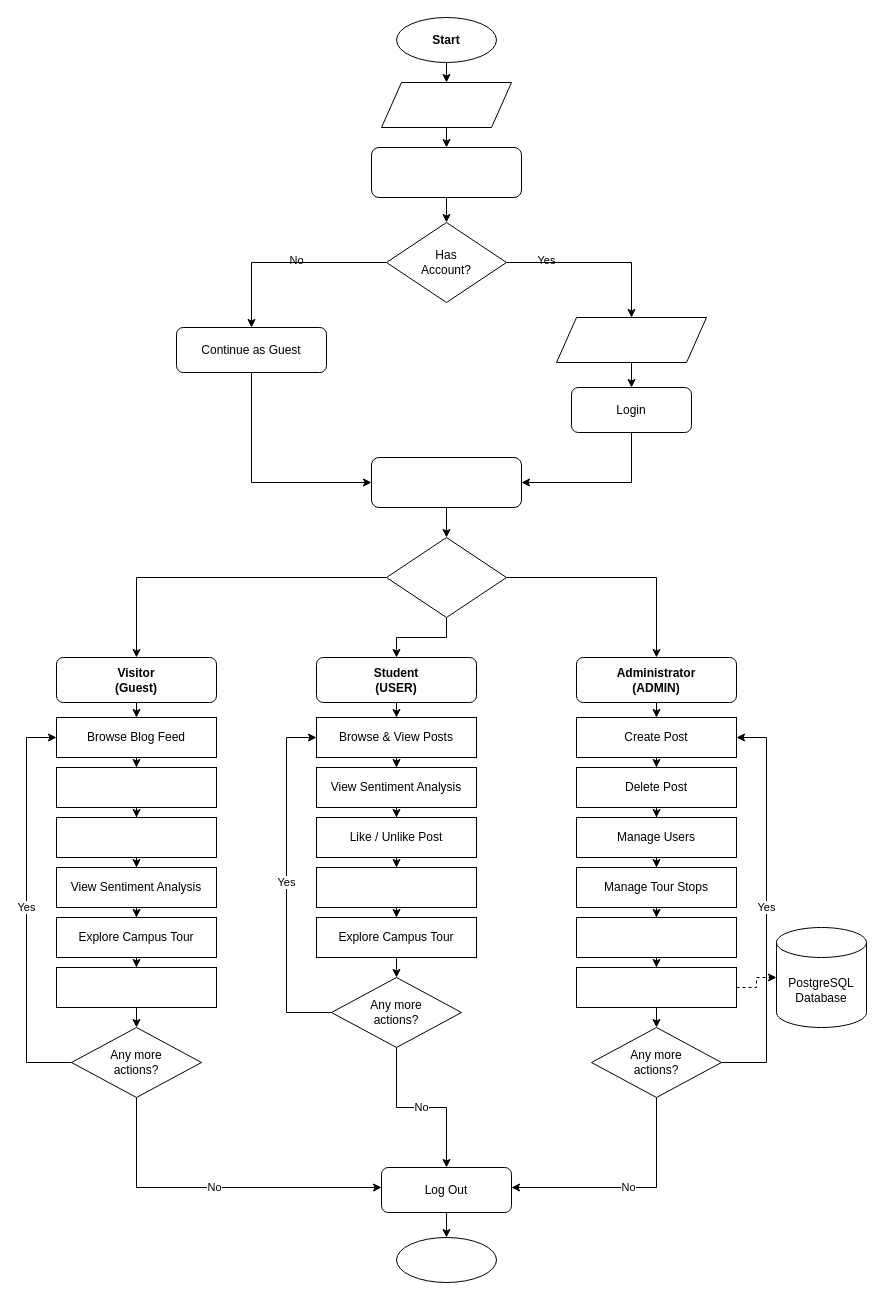
Image size: 884x1300. Some labels were removed from this diagram. Here are the shapes that lost their labels. From the top down, the centre of each, then its label:
At point 446,105: "User".
At point 446,172: "Open MIIT App (Home)".
At point 631,339: "Email, Password".
At point 446,482: "Load Campus Feed".
At point 446,577: "User Role?".
At point 136,787: "Search & Filter Posts".
At point 136,837: "View Post Details".
At point 396,887: "Add Comment".
At point 656,937: "Delete Comment".
At point 136,987: "View 360° Panorama".
At point 656,987: "Update Database".
At point 446,1259: "End".
